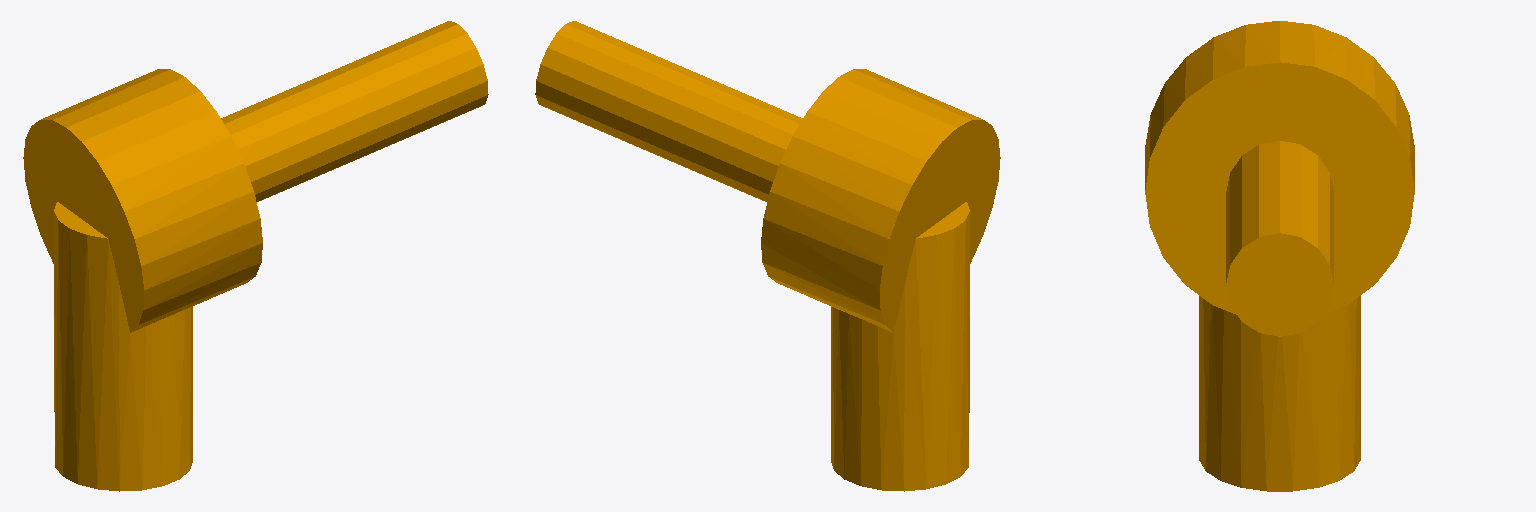
robot.urdf — 00652_plug:
<?xml version="1.0"?>
<robot name="00652_plug">
	<link name="00652_plug">
		<visual>
			<geometry>
				<mesh filename="../mesh/00652/asset_plug.obj"/>
			</geometry>
		</visual>
		<collision>
			<geometry>
				<mesh filename="../mesh/00652/asset_plug.obj"/>
			</geometry>
			<sdf resolution="256"/>
		</collision>
	</link>
</robot>

--- Render facts (derived) ---
The picture shows the robot from 3 angles, left to right: view 1: azimuth 30°, elevation 25°; view 2: azimuth 150°, elevation 25°; view 3: azimuth 270°, elevation 25°; orthographic projection.
Model 00652_plug with 1 links and 0 joints (none), rooted at 00652_plug, posed all joints at 0.
Links seen in each view (by area): view 1: 00652_plug; view 2: 00652_plug; view 3: 00652_plug.
Link boxes in pixels (<box>): 00652_plug: <box>23,21,488,491</box>; 00652_plug: <box>535,21,1000,491</box>; 00652_plug: <box>1145,21,1414,491</box>.
Bounding box of the posed robot: 0.0416 × 0.0205 × 0.0361 m (x, y, z).
1 mesh visuals loaded from 1 distinct referenced files (1 OBJ).
